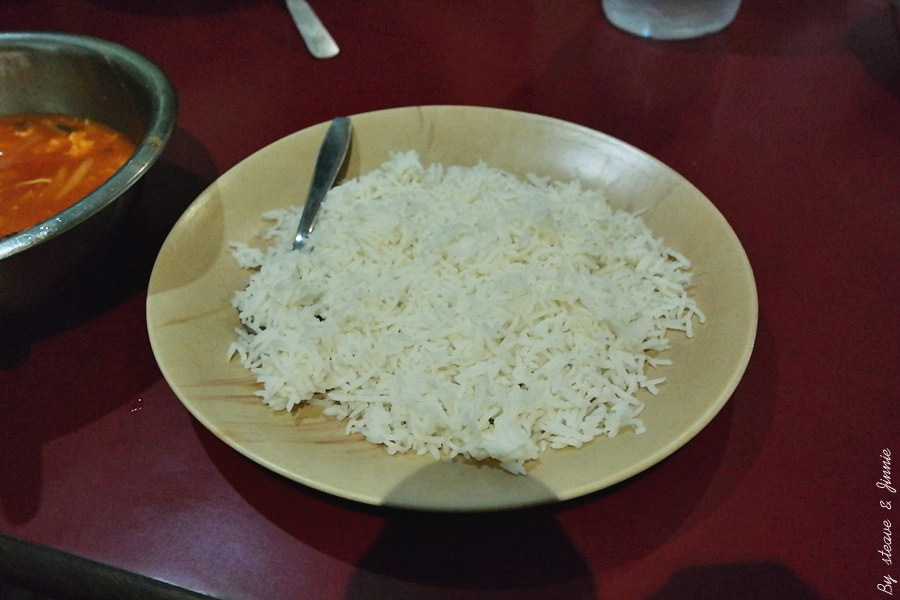plain rice: (253, 173, 698, 461)
